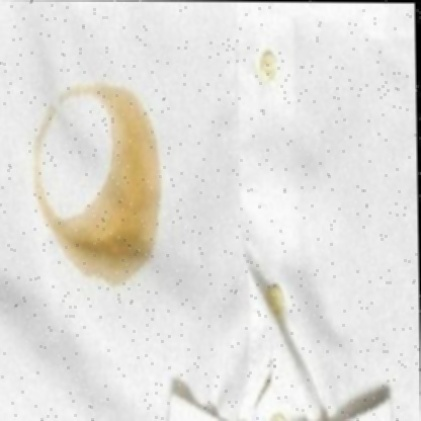coffee: (97, 97, 163, 202), (69, 205, 157, 273)
